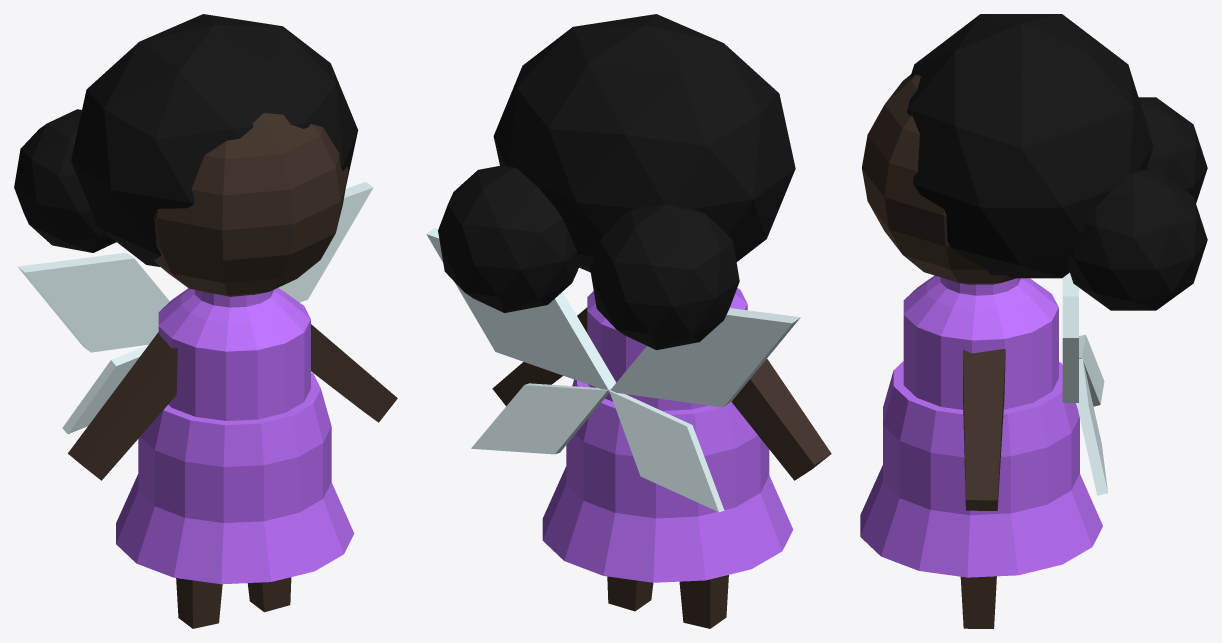
File: PURPLENymph3.fbx
The picture shows the model from 3 angles, left to right: view 1: azimuth 30°, elevation 25°; view 2: azimuth 150°, elevation 25°; view 3: azimuth 270°, elevation 25°; orthographic projection. The views are drawn at different scales.
Visible parts, largest first — view 1: Cylinder, Hair, Head, Wing2, Icosphere.001, Arm, Armm, Wing1, Wingg2, Leg, Leg.001; view 2: Hair, Cylinder, Icosphere.001, Icosphere, Wing2, Wing1, Wingg2, Wingg1, Arm, Leg, Armm, Leg.001; view 3: Cylinder, Hair, Icosphere, Head, Armm, Icosphere.001, Wingg1, Wing1, Leg.001, Wingg2.
Boxes of the visible parts, x1,y1,x2,y2 form: Cylinder: (116, 288, 354, 584); Hair: (71, 14, 358, 266); Head: (154, 113, 348, 296); Wing2: (17, 252, 169, 352); Icosphere.001: (14, 109, 116, 252); Arm: (68, 332, 177, 480); Armm: (311, 324, 397, 422); Wing1: (278, 181, 373, 302); Wingg2: (62, 345, 148, 434); Leg: (176, 578, 222, 628); Leg.001: (247, 577, 291, 612); Hair: (493, 14, 795, 272); Cylinder: (542, 288, 793, 582); Icosphere.001: (590, 204, 739, 350); Icosphere: (438, 165, 580, 312); Wing2: (610, 308, 800, 407); Wing1: (426, 228, 616, 391); Wingg2: (609, 390, 724, 512); Wingg1: (471, 383, 610, 454); Arm: (731, 359, 831, 480); Leg: (679, 575, 728, 628); Armm: (492, 307, 587, 406); Leg.001: (607, 576, 653, 611); Cylinder: (860, 275, 1102, 577); Hair: (907, 14, 1153, 278); Icosphere: (1067, 169, 1207, 310); Head: (862, 74, 1015, 284); Armm: (963, 349, 1005, 510); Icosphere.001: (1138, 97, 1207, 203); Wingg1: (1077, 358, 1107, 495); Wing1: (1062, 296, 1078, 402); Leg.001: (960, 576, 996, 628); Wingg2: (1079, 334, 1104, 406).
Size of the model in its own units: 313 by 492 by 266.
